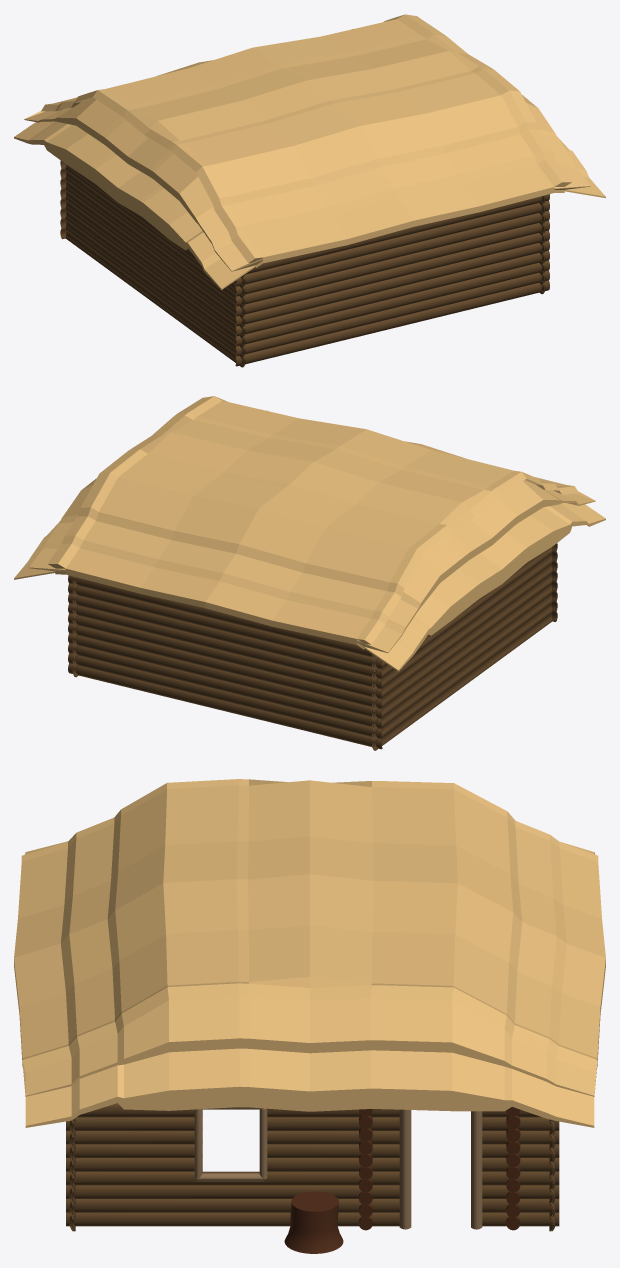
Rendered from basic house 2.fbx.
3 views of the same model, one above another, from view 1: azimuth 30°, elevation 25°; view 2: azimuth 150°, elevation 25°; view 3: azimuth 270°, elevation 25° (orthographic). The views are drawn at different scales.
Visible parts, largest first — view 1: Cube.037, Cube.036, Cube.034; view 2: Cube.037, Cube.035, Cube.034; view 3: Cube.037, Cube.031, Cylinder.005, Cube.039, Cylinder.004, Cylinder.003, Cube.035, Cube.036, Cube.047.
Part boxes in pixels (left/top/right/bottom): Cube.037: left=14, top=14, right=605, bottom=289; Cube.036: left=235, top=194, right=549, bottom=366; Cube.034: left=65, top=165, right=245, bottom=367; Cube.037: left=14, top=396, right=605, bottom=671; Cube.035: left=68, top=575, right=382, bottom=749; Cube.034: left=372, top=547, right=552, bottom=750; Cube.037: left=14, top=779, right=605, bottom=1127; Cube.031: left=66, top=1103, right=559, bottom=1226; Cylinder.005: left=284, top=1191, right=343, bottom=1253; Cube.039: left=399, top=1109, right=482, bottom=1229; Cylinder.004: left=506, top=1107, right=520, bottom=1230; Cylinder.003: left=359, top=1109, right=372, bottom=1230; Cube.035: left=549, top=1119, right=555, bottom=1231; Cube.036: left=69, top=1118, right=75, bottom=1231; Cube.047: left=259, top=1108, right=267, bottom=1179.
Bounding box in the file's own units: 1935 × 890 × 1881.
